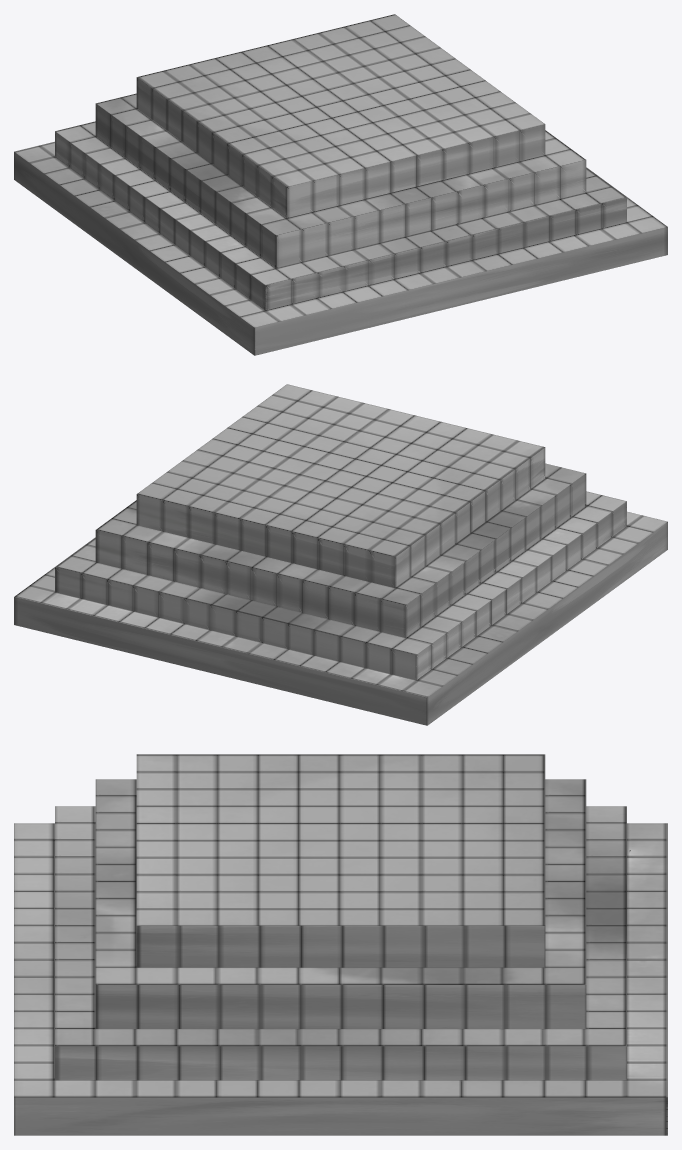
File: token_taken.dae
3 views of the same model, one above another, from view 1: azimuth 30°, elevation 25°; view 2: azimuth 150°, elevation 25°; view 3: azimuth 270°, elevation 25° (orthographic). The views are drawn at different scales.
Parts seen in each view (by area): view 1: Cube; view 2: Cube; view 3: Cube.
Boxes of the visible parts, x1,y1,x2,y2 form: Cube: (14,14,667,355); Cube: (14,384,667,725); Cube: (14,754,667,1135).
Size of the model in its own units: 3.85 by 3.89 by 1.04.
Materials: 1 (1 with a texture image).
